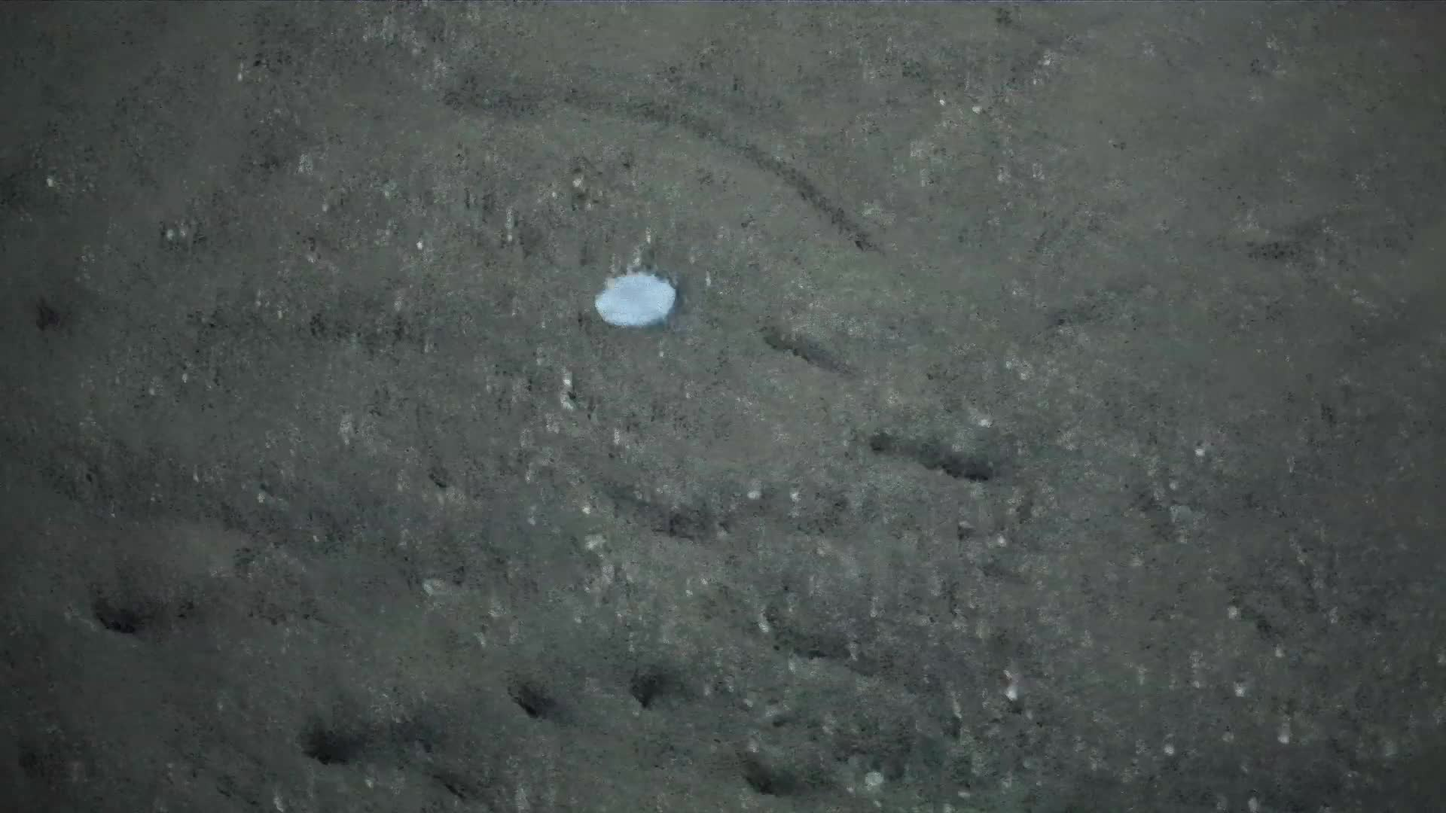Target: (589, 269, 680, 330)
